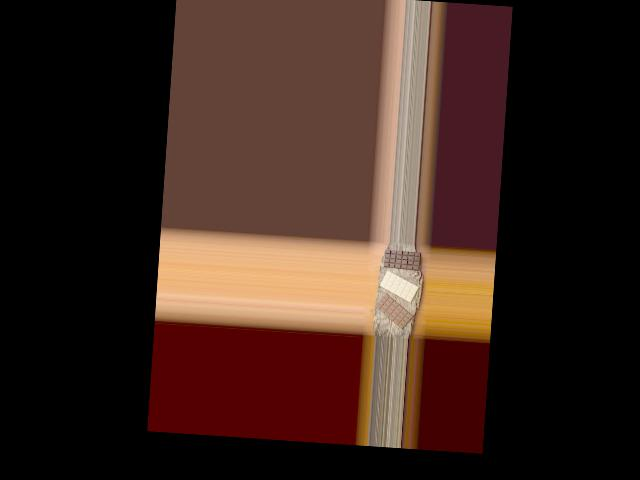chocolate: (383, 248, 421, 270)
